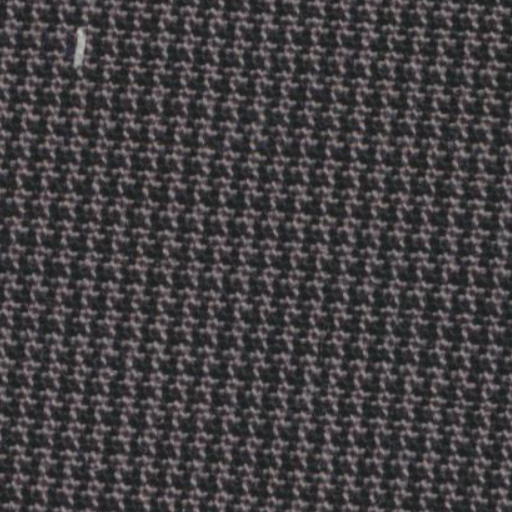DuanSha: (60, 22, 105, 74)
